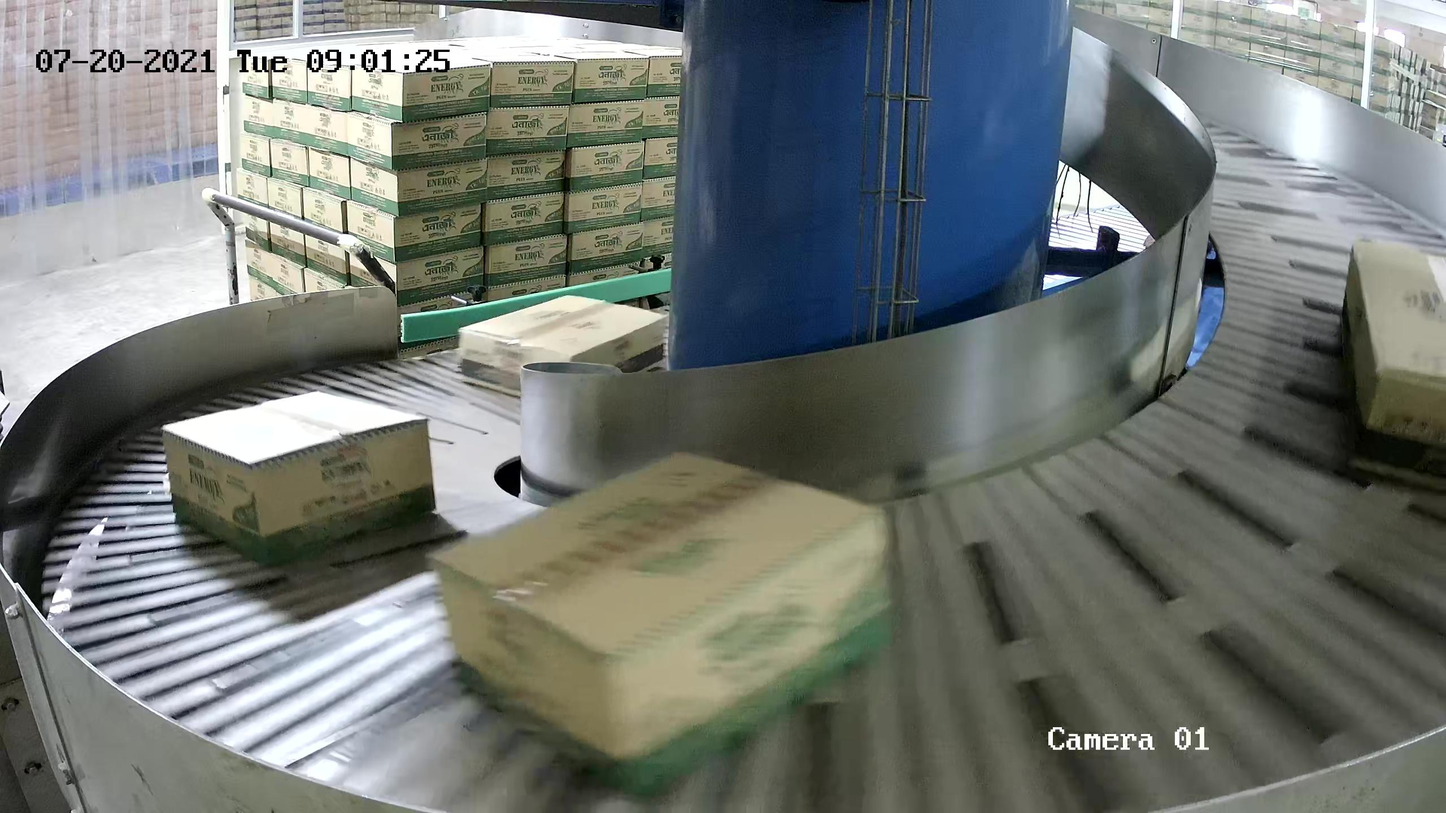Box: (424, 446, 893, 797), (160, 390, 438, 566), (1338, 239, 1446, 488), (456, 293, 665, 399)
